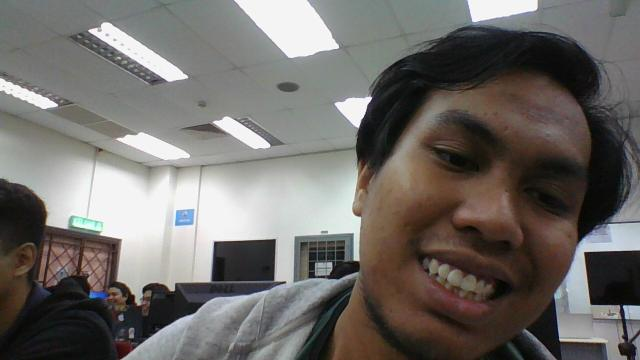senang: (325, 25, 611, 353)
